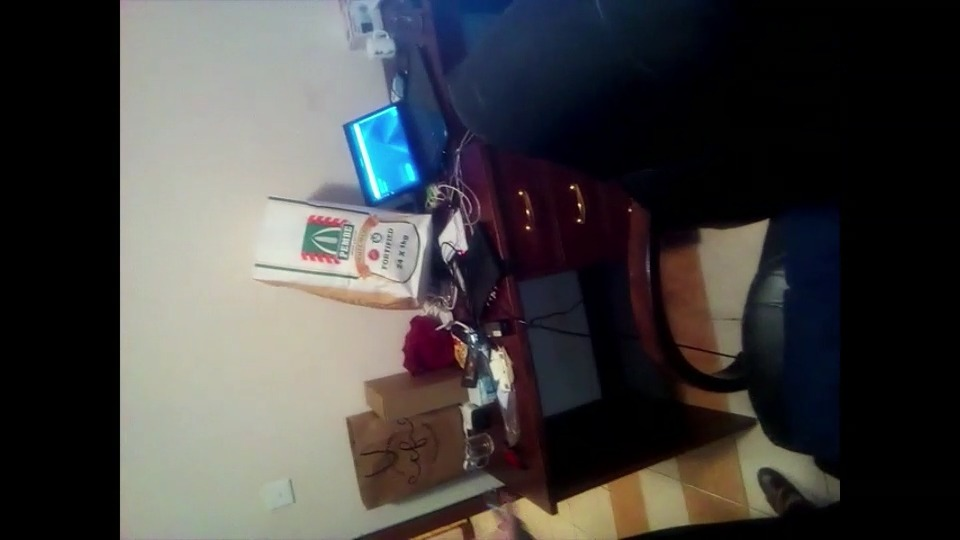maize_flour_green_label: (242, 188, 430, 306)
